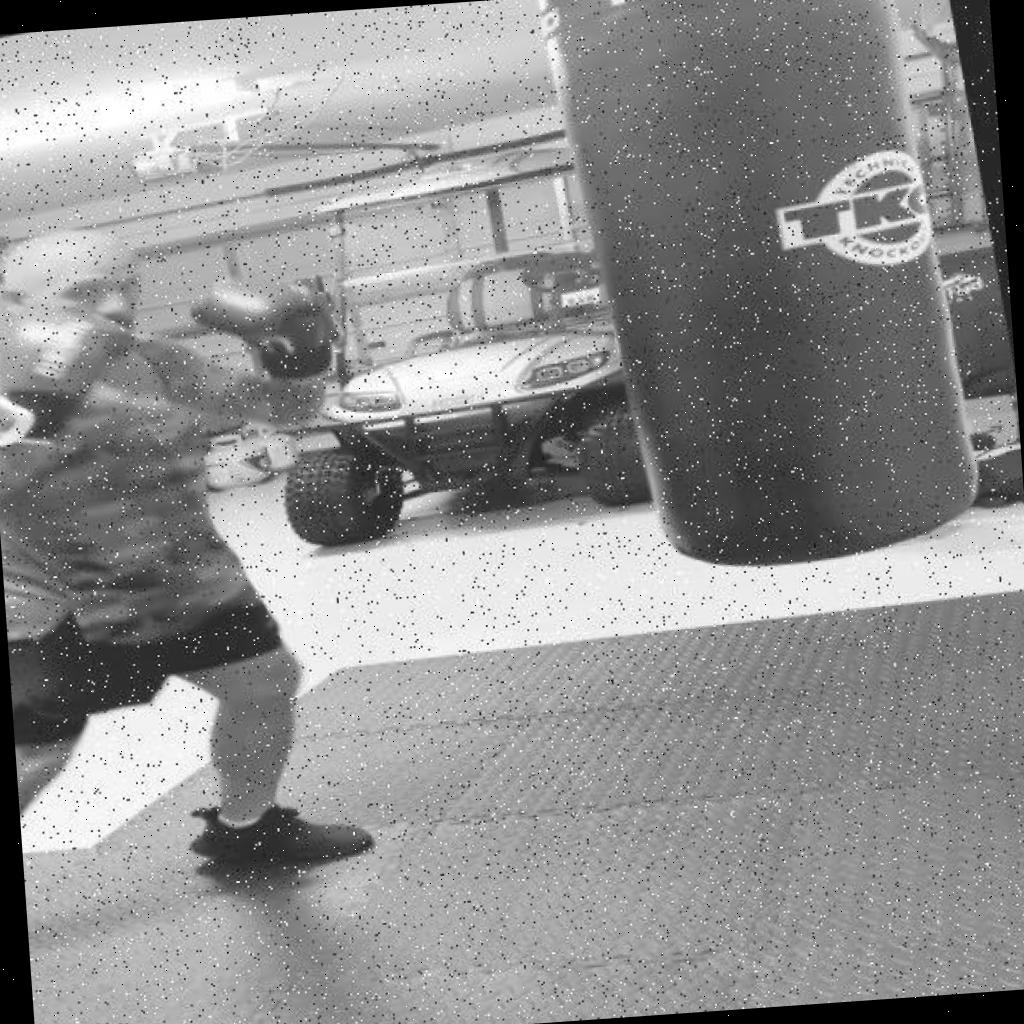no punch: (0, 159, 461, 970)
